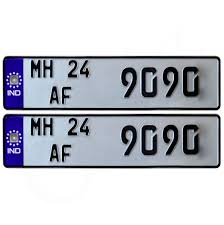inlp: (2, 54, 222, 111), (2, 113, 222, 170)
